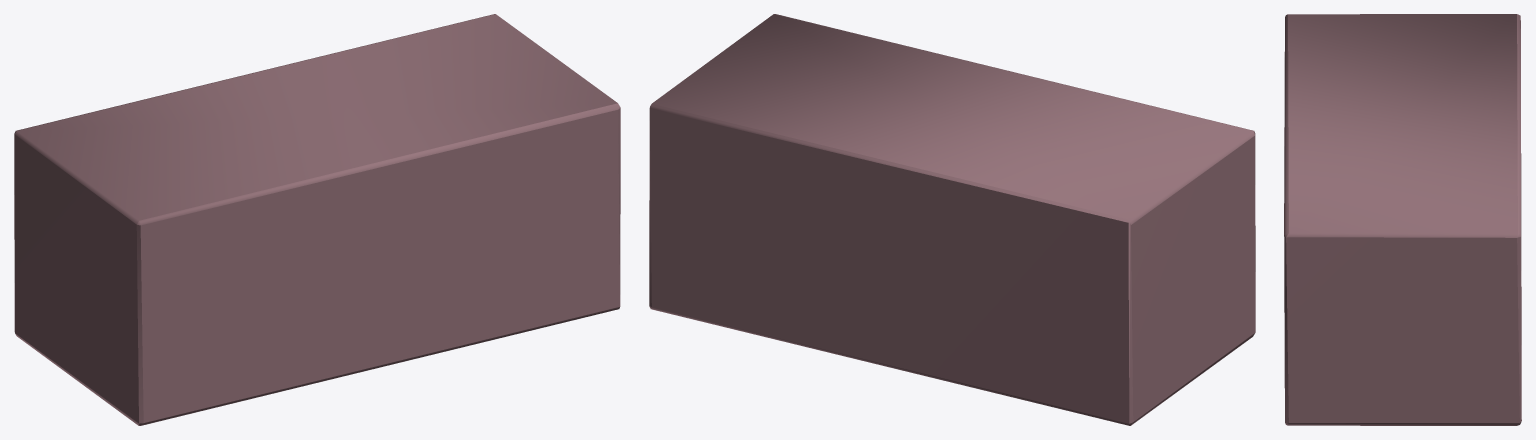
File: SM_Schlachthof_Trough_LOD1.fbx
The picture shows the model from 3 angles, left to right: view 1: azimuth 30°, elevation 25°; view 2: azimuth 150°, elevation 25°; view 3: azimuth 270°, elevation 25°; orthographic projection. The views are drawn at different scales.
Parts seen in each view (by area): view 1: SM_Schlachthof_Trough_LOD1; view 2: SM_Schlachthof_Trough_LOD1; view 3: SM_Schlachthof_Trough_LOD1.
Boxes of the visible parts, x1,y1,x2,y2 form: SM_Schlachthof_Trough_LOD1: (14, 14, 620, 425); SM_Schlachthof_Trough_LOD1: (649, 14, 1255, 425); SM_Schlachthof_Trough_LOD1: (1284, 14, 1521, 425).
Size of the model in its own units: 2.2 by 0.8948 by 1.
